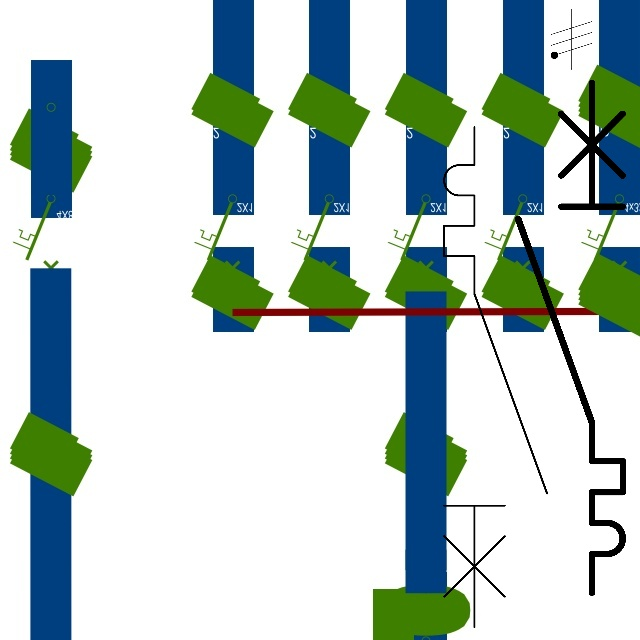interruptor_termomagnetico: (505, 69, 636, 605), (431, 114, 559, 640)
